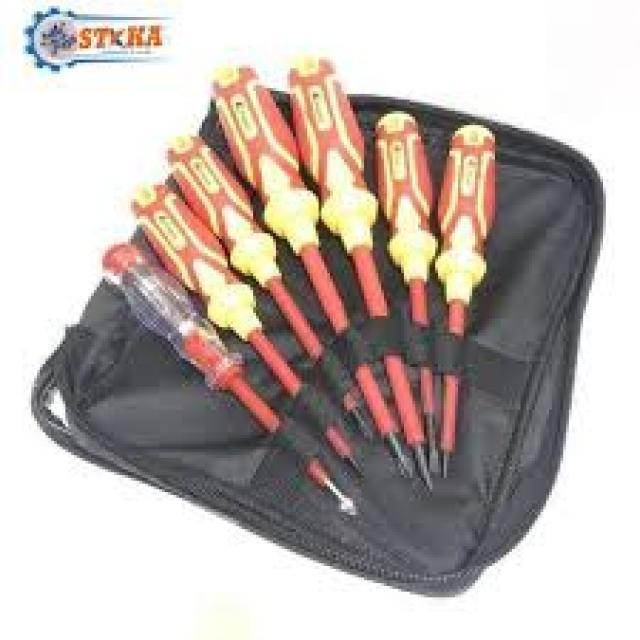screwdriver: (209, 61, 417, 482), (100, 238, 362, 524), (128, 179, 370, 478), (162, 128, 376, 444), (286, 42, 434, 490), (374, 112, 440, 474), (440, 123, 502, 480)
